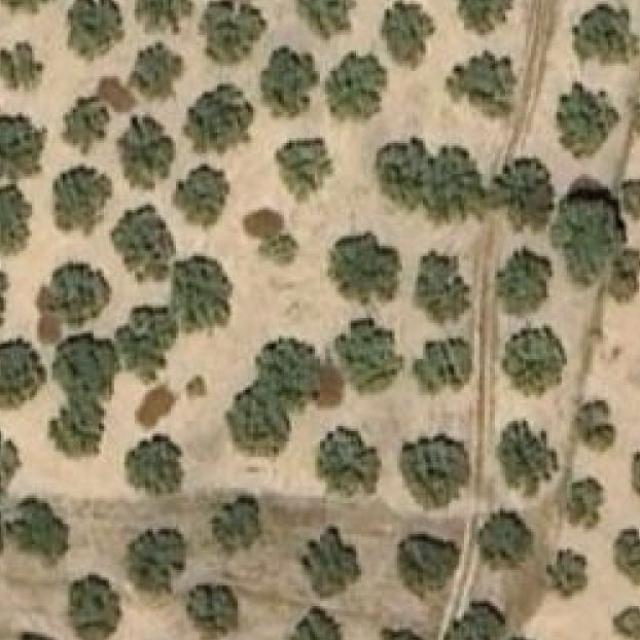Tree: (397, 431, 472, 508), (109, 202, 176, 282), (495, 418, 560, 498), (557, 200, 616, 287), (181, 85, 253, 156), (332, 233, 402, 306), (446, 51, 518, 118), (122, 529, 194, 596), (336, 321, 402, 393), (298, 527, 364, 599), (318, 426, 383, 498), (557, 82, 618, 158), (228, 385, 294, 455), (258, 46, 320, 120), (51, 164, 112, 238), (325, 51, 387, 122), (171, 256, 232, 328), (200, 0, 266, 66), (395, 534, 460, 601), (416, 246, 470, 326), (171, 163, 230, 236), (39, 265, 109, 326), (117, 118, 174, 192), (261, 334, 325, 399), (495, 246, 553, 317), (63, 0, 124, 67), (377, 141, 437, 208), (572, 4, 639, 64), (274, 136, 333, 203), (116, 301, 175, 368), (380, 1, 436, 71), (50, 333, 116, 392), (490, 159, 551, 220), (49, 393, 108, 456), (4, 498, 69, 555), (503, 323, 564, 382), (477, 508, 534, 570), (0, 336, 47, 411), (128, 436, 184, 498), (210, 496, 266, 558), (130, 44, 184, 108), (433, 148, 486, 212), (71, 575, 122, 640), (411, 339, 472, 393), (0, 112, 47, 179), (61, 95, 112, 156), (186, 583, 238, 640), (298, 0, 362, 40), (442, 601, 506, 640), (0, 184, 32, 256), (454, 0, 513, 38), (0, 40, 44, 89), (567, 481, 608, 533), (284, 606, 346, 640), (546, 549, 586, 596), (575, 400, 615, 447), (608, 249, 640, 304), (137, 0, 191, 32), (613, 526, 640, 585), (0, 429, 20, 504), (608, 604, 640, 640), (0, 0, 66, 17), (184, 374, 210, 406), (620, 182, 640, 216), (381, 628, 433, 640), (630, 449, 640, 501), (6, 632, 61, 640)
